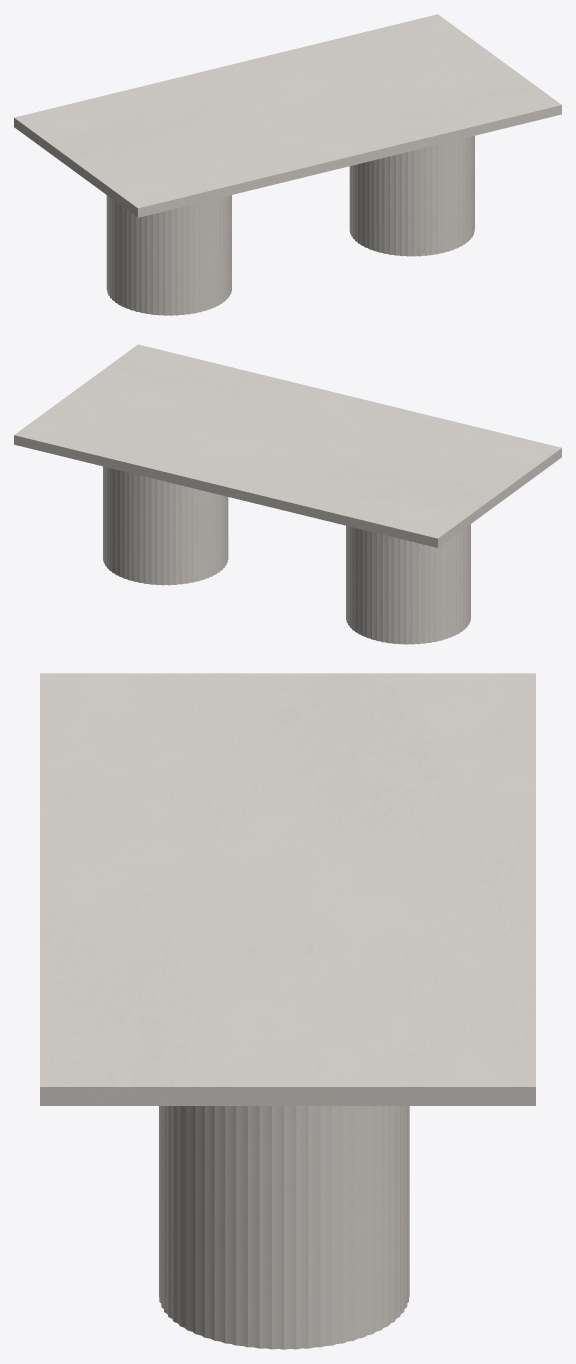
The model's file is pearlwhite_recta_standard_ripplesecond.glb.
3 views of the same model, one above another, from view 1: azimuth 30°, elevation 25°; view 2: azimuth 150°, elevation 25°; view 3: azimuth 270°, elevation 25° (orthographic). The views are drawn at different scales.
Visible parts, largest first — view 1: standard_recta, ripplesecond; view 2: standard_recta, ripplesecond; view 3: standard_recta, ripplesecond.
Part boxes in pixels (left/top/right/bottom): standard_recta: left=14, top=14, right=561, bottom=217; ripplesecond: left=106, top=135, right=474, bottom=315; standard_recta: left=14, top=344, right=561, bottom=547; ripplesecond: left=103, top=466, right=470, bottom=644; standard_recta: left=40, top=673, right=535, bottom=1105; ripplesecond: left=159, top=1106, right=409, bottom=1349.
Bounding box in the file's own units: 7.5 × 2.5 × 3.8.
1 material, 1 textured.
